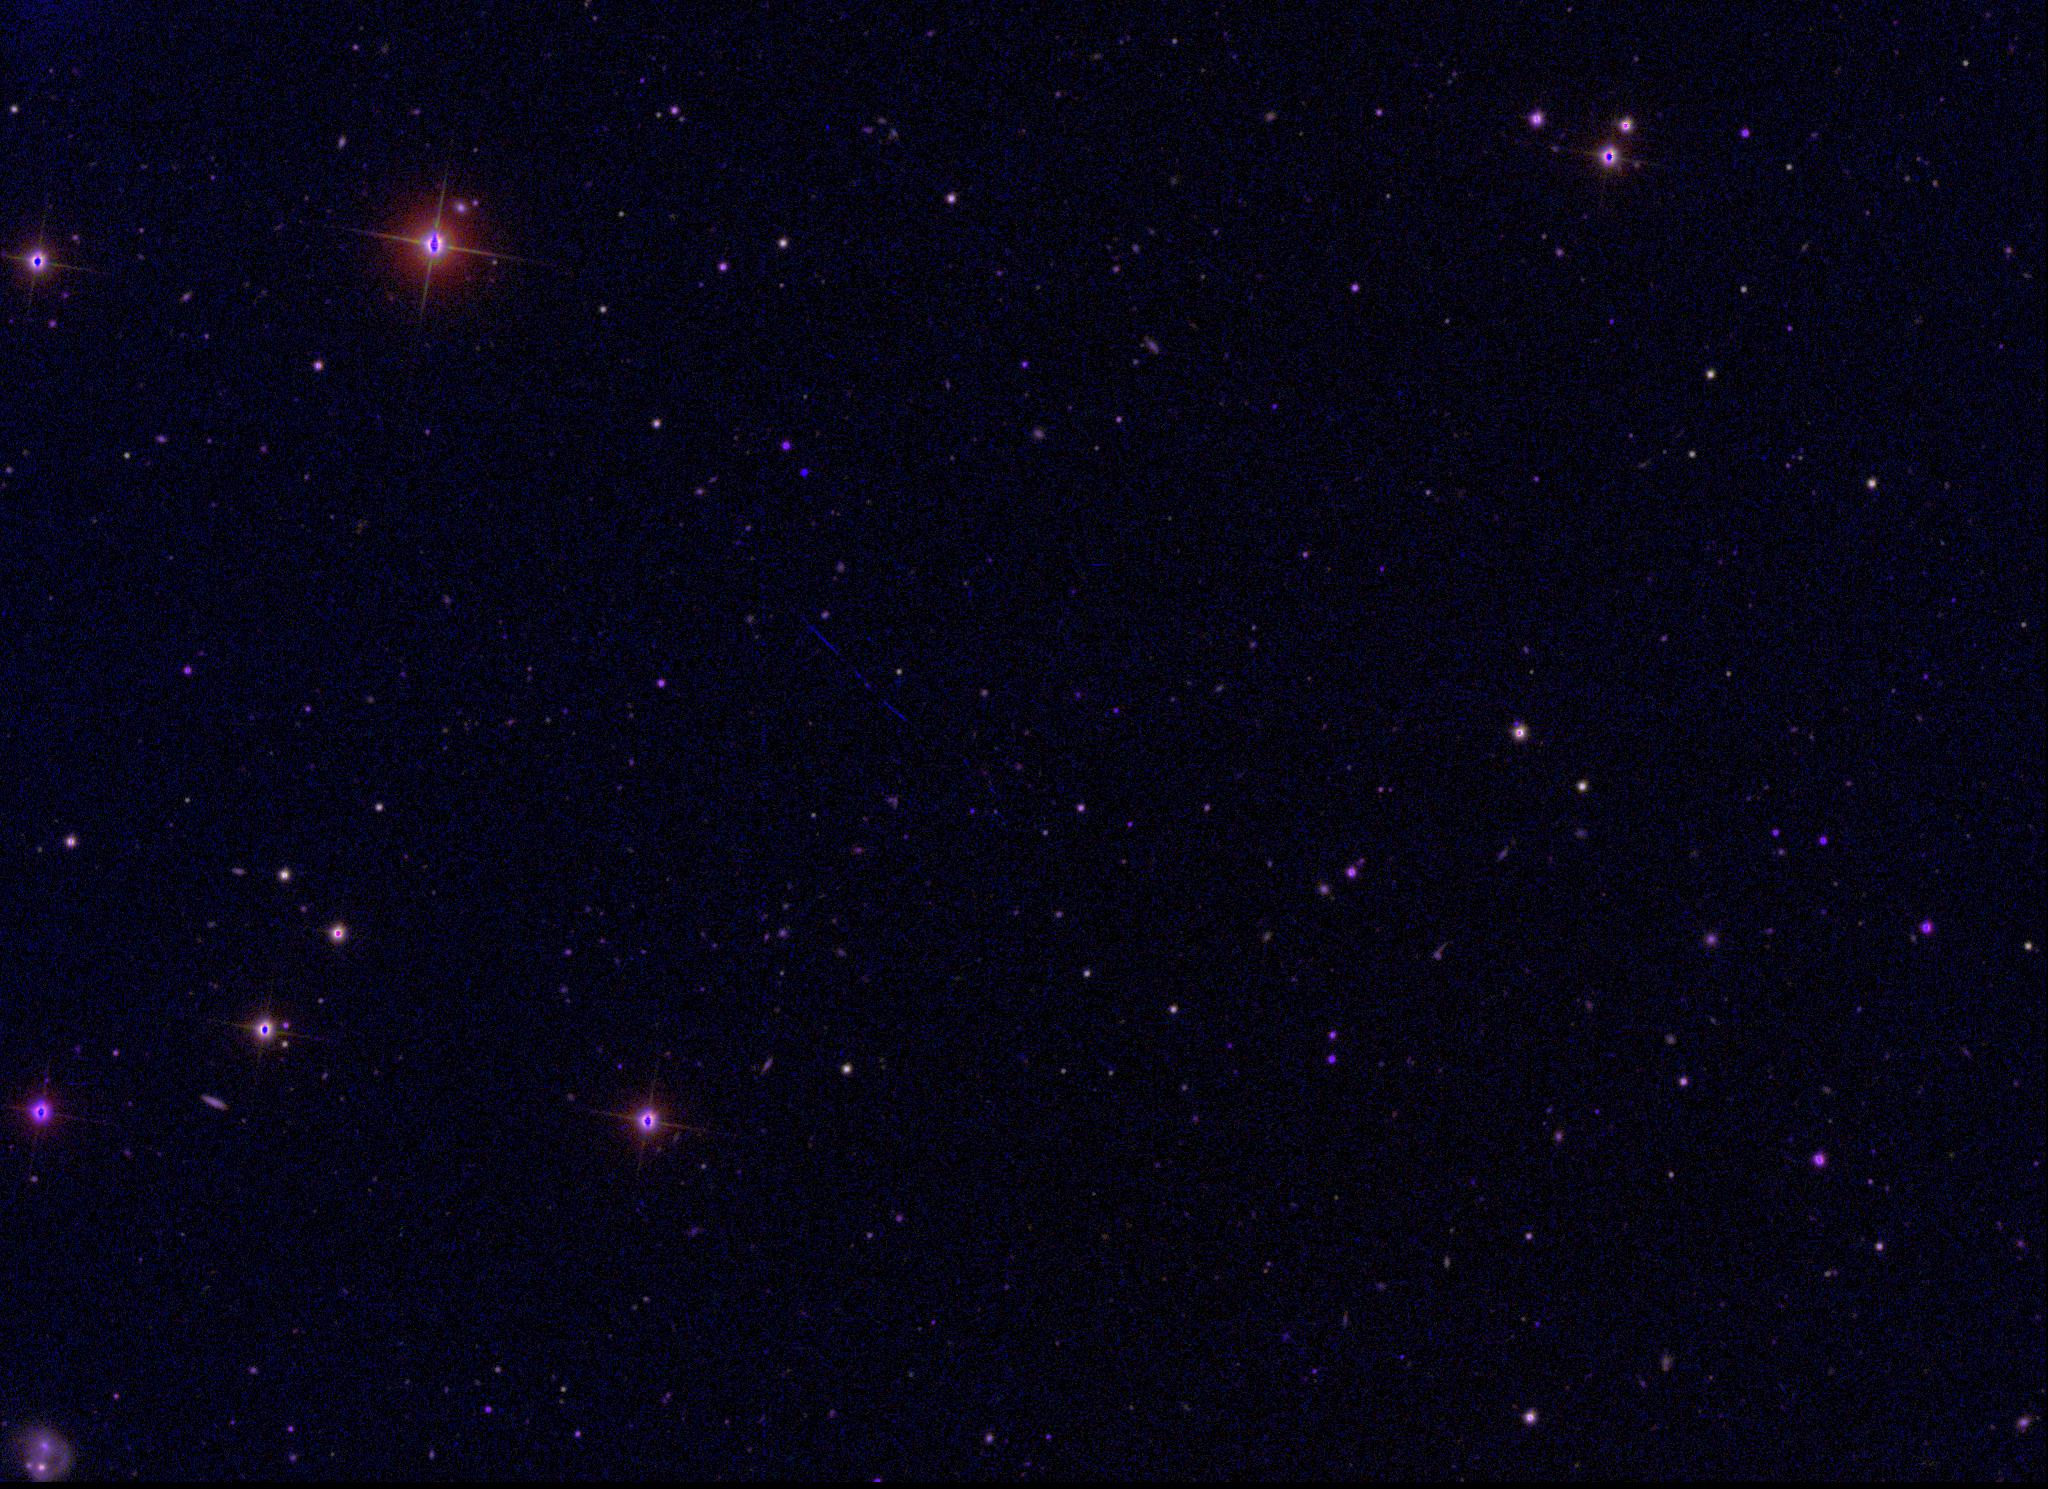L: (797, 461, 811, 476)
